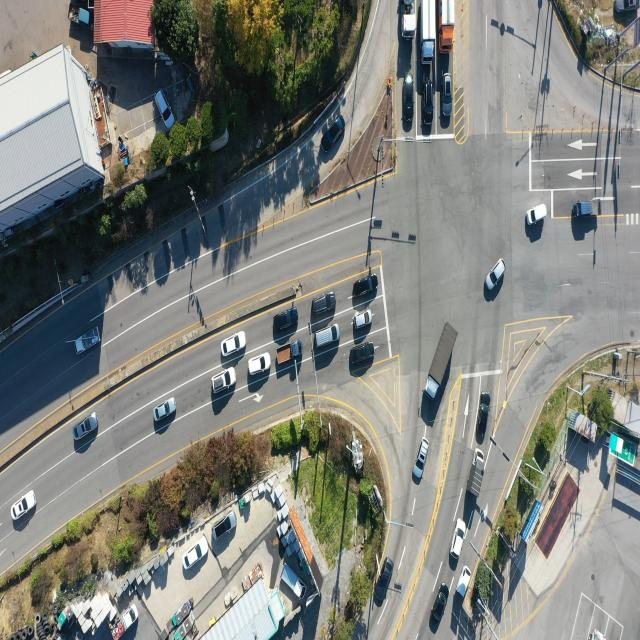car: (377, 557, 395, 607), (322, 115, 345, 154), (184, 539, 210, 572), (157, 88, 176, 129), (13, 489, 37, 519), (313, 323, 340, 349), (478, 394, 492, 444), (433, 585, 451, 623), (349, 342, 375, 368), (222, 332, 247, 359), (486, 259, 506, 292), (414, 437, 430, 478), (76, 414, 99, 442), (213, 511, 236, 539), (212, 368, 236, 393), (353, 276, 378, 300), (452, 518, 466, 560), (454, 565, 471, 599), (314, 290, 338, 314), (248, 352, 272, 375), (274, 309, 298, 332), (405, 76, 416, 126), (155, 397, 177, 421), (422, 83, 434, 125), (526, 204, 547, 226), (444, 76, 454, 121), (354, 310, 372, 329), (615, 0, 638, 13)
medium_truck: (424, 322, 456, 402), (419, 0, 439, 62), (442, 0, 458, 56), (403, 0, 417, 41)
small_truck: (109, 603, 140, 640), (280, 563, 308, 602), (469, 448, 488, 499), (276, 340, 302, 366), (77, 330, 102, 357), (67, 3, 91, 26), (572, 200, 600, 219)
